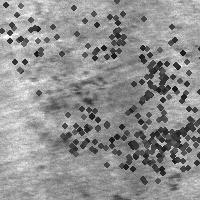rolled-in_scale: (91, 94, 193, 196), (107, 21, 200, 131), (61, 0, 169, 91), (24, 52, 109, 139), (126, 91, 200, 183), (0, 0, 71, 86), (50, 93, 118, 161), (135, 122, 181, 195)
